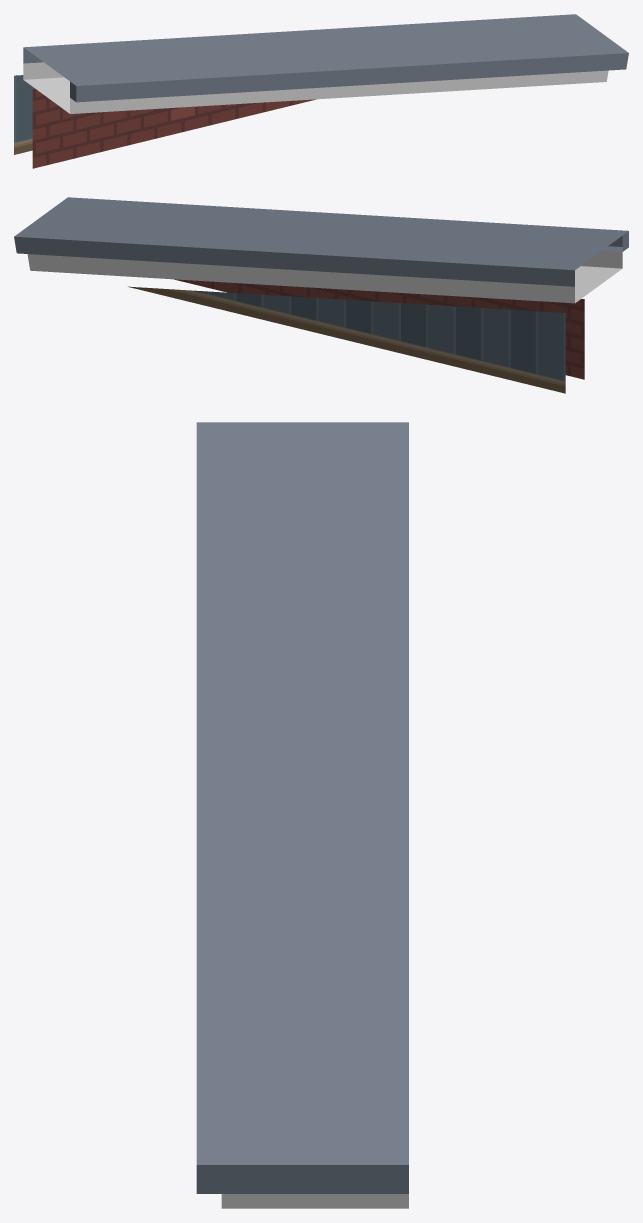
File: SM_roof_02_end.glb
3 renders of one model, top to bottom at view 1: azimuth 30°, elevation 25°; view 2: azimuth 150°, elevation 25°; view 3: azimuth 270°, elevation 25°, orthographic. The views are drawn at different scales.
Visible parts, largest first — view 1: SM_roof_02_end; view 2: SM_roof_02_end; view 3: SM_roof_02_end.
Boxes of the visible parts, x1,y1,x2,y2 form: SM_roof_02_end: (14,14,628,168); SM_roof_02_end: (14,197,628,393); SM_roof_02_end: (196,422,408,1208).
Bounding box in the file's own units: 5.11 × 1.16 × 1.
Materials: 3 (3 with a texture image).
